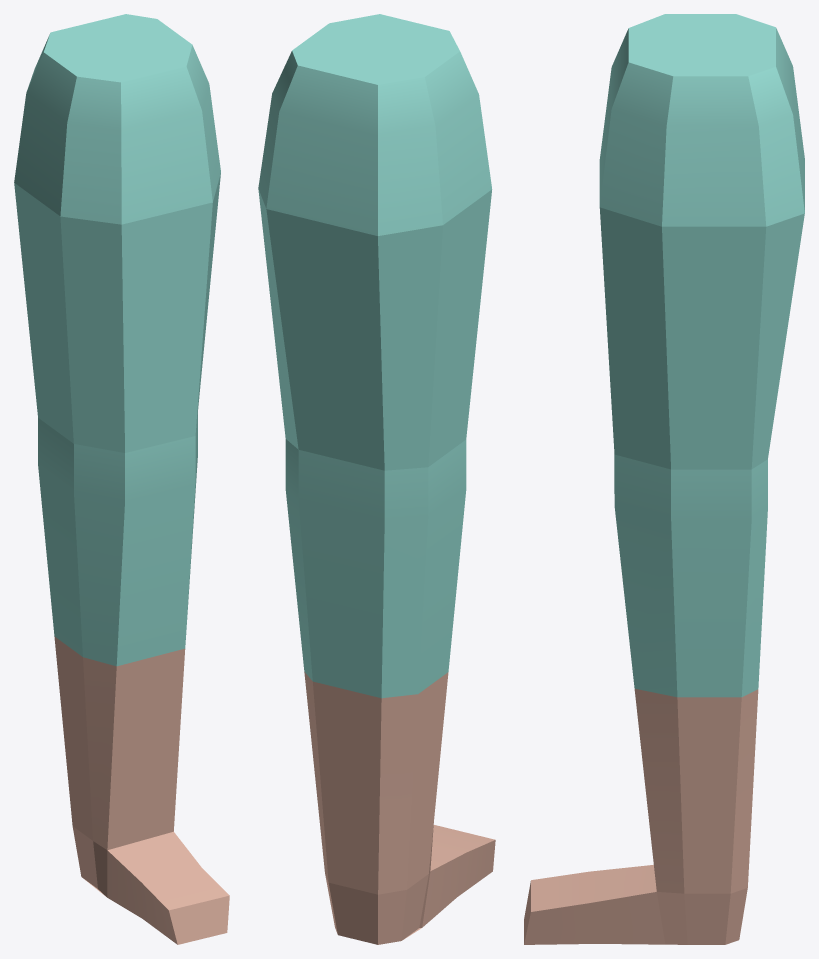
Rendered from player_right_leg.fbx.
3 renders of one model, left to right at view 1: azimuth 30°, elevation 25°; view 2: azimuth 150°, elevation 25°; view 3: azimuth 270°, elevation 25°, orthographic. The views are drawn at different scales.
Parts seen in each view (by area): view 1: pPlane2; view 2: pPlane2; view 3: pPlane2.
Boxes of the visible parts, x1,y1,x2,y2 form: pPlane2: [14, 14, 229, 944]; pPlane2: [258, 14, 495, 944]; pPlane2: [524, 14, 804, 944].
Bounding box in the file's own units: 0.8353 × 4 × 1.14.
